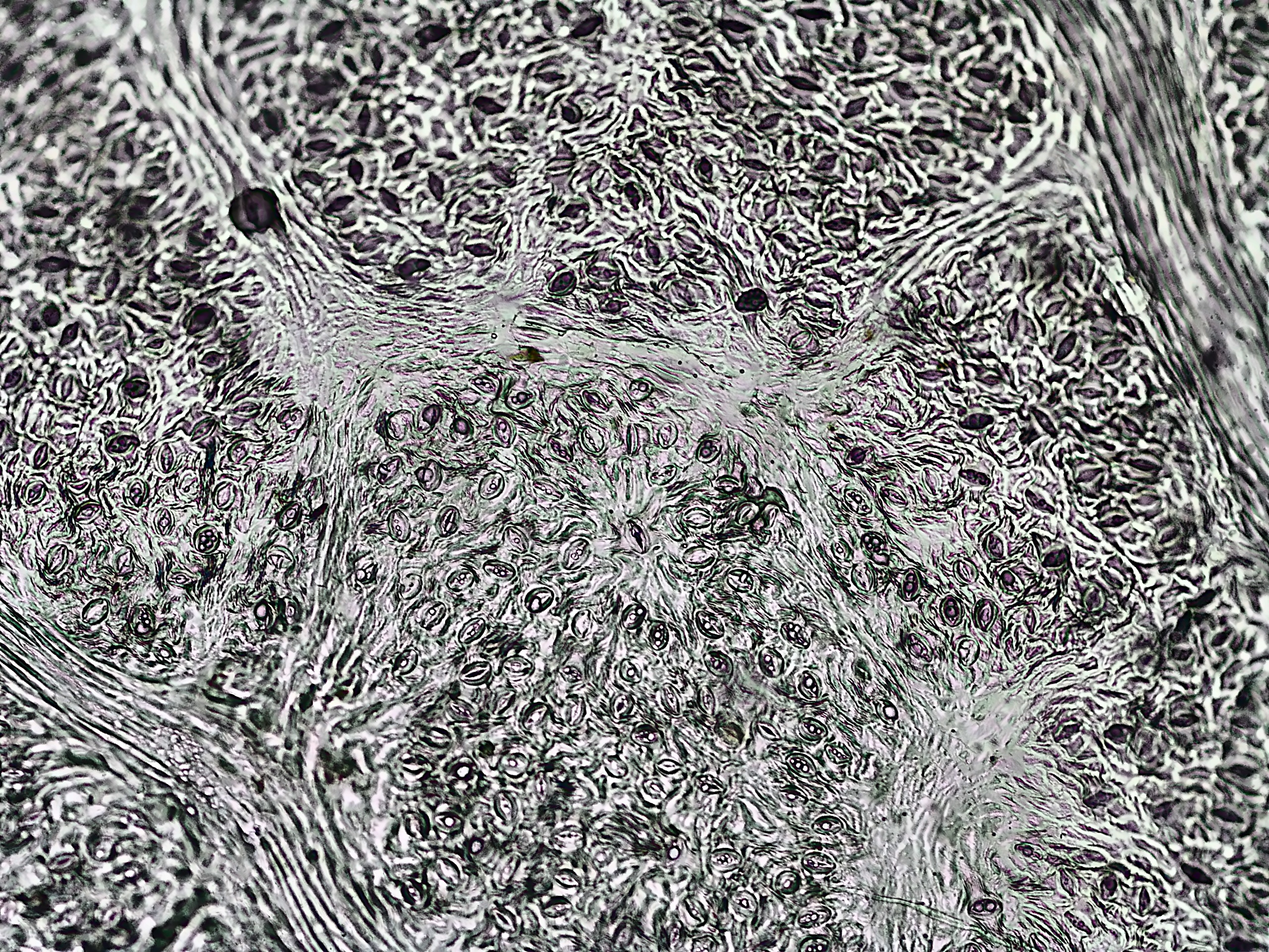stomata: (227, 186, 278, 233), (1212, 892, 1261, 933), (1221, 47, 1266, 85), (28, 248, 77, 279), (1046, 330, 1085, 366), (787, 4, 843, 29), (1025, 403, 1062, 440), (716, 11, 761, 41), (19, 200, 67, 228), (527, 63, 573, 92), (918, 467, 955, 503), (1098, 554, 1134, 591), (393, 753, 432, 787), (309, 15, 351, 46), (303, 71, 346, 101), (467, 92, 510, 122), (727, 286, 770, 316), (701, 845, 745, 874), (183, 303, 219, 338), (930, 50, 964, 87), (1047, 715, 1084, 749), (1067, 249, 1099, 288), (839, 482, 873, 518), (569, 9, 606, 42), (409, 19, 454, 46), (959, 107, 999, 137), (909, 362, 955, 388), (431, 853, 465, 888), (262, 542, 296, 577), (252, 100, 287, 134), (950, 634, 985, 668), (1023, 483, 1059, 516), (896, 630, 932, 663), (693, 608, 730, 640), (667, 279, 705, 310), (798, 848, 840, 876), (961, 894, 1006, 920), (457, 236, 500, 263), (110, 130, 145, 163), (846, 561, 881, 594), (461, 208, 513, 230), (1175, 859, 1213, 889), (966, 364, 1011, 389), (861, 529, 895, 562), (95, 263, 123, 303), (872, 185, 907, 217), (1061, 907, 1096, 939), (779, 620, 815, 651), (444, 695, 481, 725), (955, 407, 1001, 431), (1206, 805, 1250, 830), (393, 253, 435, 279), (1012, 77, 1046, 109), (933, 595, 967, 627), (491, 790, 522, 825), (971, 597, 1002, 632), (680, 55, 720, 82), (530, 477, 567, 506), (781, 69, 822, 95), (699, 649, 737, 677), (619, 178, 647, 216), (768, 227, 806, 255), (662, 11, 708, 34), (48, 901, 81, 933), (117, 858, 149, 891), (272, 499, 304, 532), (576, 423, 608, 456), (349, 232, 393, 256), (397, 877, 431, 908), (669, 86, 703, 117), (560, 536, 590, 571), (636, 138, 673, 166), (922, 167, 969, 189), (737, 154, 780, 178), (672, 230, 710, 257), (1033, 545, 1071, 572), (1002, 308, 1027, 349), (487, 903, 520, 934), (999, 253, 1030, 286), (51, 370, 81, 404), (959, 263, 993, 293), (1186, 586, 1221, 615), (492, 15, 518, 54), (891, 566, 919, 602), (147, 638, 178, 670), (1077, 584, 1110, 614), (782, 753, 820, 779), (92, 322, 130, 348), (1066, 379, 1113, 400), (493, 852, 522, 886), (336, 47, 365, 81), (1145, 797, 1179, 826), (484, 159, 519, 187), (795, 903, 834, 928), (385, 507, 412, 543), (995, 565, 1026, 596), (728, 889, 760, 919), (546, 826, 586, 850), (246, 599, 276, 631), (187, 415, 219, 445), (373, 183, 403, 215), (364, 41, 394, 73), (679, 893, 708, 926), (450, 47, 484, 75), (827, 534, 855, 568), (820, 214, 863, 236), (416, 458, 443, 493), (1070, 462, 1106, 488), (758, 646, 788, 677), (457, 616, 488, 646), (60, 146, 91, 176), (121, 479, 150, 511), (1152, 521, 1184, 550), (21, 157, 58, 182), (500, 525, 533, 553), (794, 667, 822, 700), (433, 505, 461, 538), (151, 506, 179, 539), (1038, 295, 1071, 323), (1093, 872, 1121, 905), (622, 518, 649, 552), (937, 291, 971, 318), (1102, 723, 1136, 750), (353, 102, 377, 140), (539, 896, 575, 921), (750, 110, 786, 135), (374, 456, 403, 487), (193, 524, 222, 555), (1119, 313, 1150, 342), (956, 467, 995, 490), (981, 529, 1009, 561), (0, 361, 27, 394), (421, 171, 448, 204), (967, 60, 1000, 87), (456, 660, 493, 684), (1126, 457, 1163, 481), (194, 347, 228, 373), (724, 568, 759, 593), (543, 270, 578, 295), (809, 814, 847, 837), (801, 291, 839, 314), (1093, 345, 1131, 368), (488, 414, 518, 443), (605, 690, 634, 720), (400, 810, 430, 839), (127, 602, 156, 632), (581, 387, 611, 416), (984, 20, 1013, 50), (618, 601, 649, 629), (17, 478, 48, 506), (544, 435, 575, 463), (1219, 9, 1247, 40), (853, 752, 880, 784), (152, 440, 178, 473), (877, 482, 910, 508), (679, 545, 716, 568), (320, 193, 357, 216), (890, 45, 927, 68), (822, 740, 856, 765), (1180, 762, 1214, 787), (349, 557, 378, 586), (519, 702, 548, 731), (477, 470, 505, 500), (414, 725, 454, 746), (78, 597, 108, 625), (951, 555, 981, 583), (1094, 508, 1129, 532), (912, 107, 950, 129), (692, 154, 718, 186), (679, 506, 715, 529), (775, 783, 811, 806), (692, 772, 728, 795), (45, 851, 81, 874), (522, 587, 555, 612), (794, 715, 827, 740), (784, 329, 818, 353), (886, 76, 920, 100), (541, 153, 578, 175), (1224, 758, 1261, 780), (414, 403, 442, 432), (638, 235, 666, 264), (446, 757, 476, 784), (659, 835, 686, 865), (770, 869, 800, 896), (600, 754, 631, 780), (482, 558, 517, 581), (103, 433, 138, 456), (1128, 489, 1163, 512), (874, 410, 909, 433), (570, 607, 595, 639), (1003, 100, 1035, 125), (659, 681, 683, 714), (839, 95, 872, 119), (875, 698, 903, 726), (586, 164, 614, 192), (88, 833, 115, 862), (629, 724, 663, 747), (444, 565, 474, 591), (418, 602, 448, 628), (562, 694, 587, 725), (640, 778, 675, 800), (71, 500, 103, 524), (812, 149, 844, 173), (466, 371, 499, 394), (295, 165, 328, 188), (448, 413, 475, 441), (302, 134, 338, 155), (344, 152, 365, 188), (390, 146, 417, 174), (534, 7, 561, 35), (916, 444, 952, 465), (499, 750, 528, 776), (693, 435, 722, 461), (645, 621, 670, 651), (58, 322, 83, 352), (117, 375, 151, 397), (184, 227, 215, 251), (166, 254, 198, 277), (27, 442, 54, 469), (716, 721, 744, 747), (46, 545, 68, 578), (273, 406, 302, 431), (646, 462, 676, 486), (554, 96, 584, 120), (549, 869, 580, 892), (383, 410, 405, 442), (114, 547, 136, 579), (396, 572, 422, 599), (164, 569, 203, 587), (625, 376, 653, 401), (753, 717, 782, 741), (17, 806, 50, 827), (433, 810, 463, 833), (587, 263, 623, 282), (556, 662, 587, 684), (226, 436, 252, 462), (99, 901, 124, 928), (175, 475, 202, 500), (1117, 413, 1144, 438), (500, 654, 532, 675), (911, 136, 940, 159), (137, 335, 170, 355), (1021, 606, 1043, 636), (840, 444, 871, 465), (620, 657, 645, 683), (1137, 884, 1155, 920), (850, 30, 869, 64), (214, 481, 237, 509), (119, 198, 147, 221), (528, 770, 550, 799), (761, 501, 783, 530), (656, 419, 678, 448), (506, 386, 536, 407), (32, 67, 62, 88), (1054, 620, 1075, 650), (622, 420, 641, 453), (663, 922, 687, 948), (1186, 821, 1210, 847), (40, 301, 63, 328), (280, 595, 300, 626), (712, 475, 743, 495), (390, 650, 418, 672), (123, 806, 151, 828), (117, 221, 145, 242), (1230, 630, 1251, 658), (696, 685, 716, 714), (690, 932, 719, 952), (734, 501, 757, 526), (143, 159, 169, 181), (659, 59, 681, 85), (1057, 866, 1076, 896), (797, 935, 830, 952), (589, 844, 612, 868), (461, 836, 487, 857), (76, 85, 104, 104), (21, 315, 44, 338), (1207, 626, 1231, 648), (557, 201, 586, 219), (1132, 652, 1158, 672), (1253, 7, 1269, 39), (0, 766, 34, 781), (1172, 712, 1198, 731), (66, 477, 93, 495), (157, 292, 184, 310), (492, 691, 514, 713), (653, 758, 685, 773), (232, 400, 262, 416), (2, 59, 23, 80), (72, 46, 90, 67), (0, 899, 18, 919)
